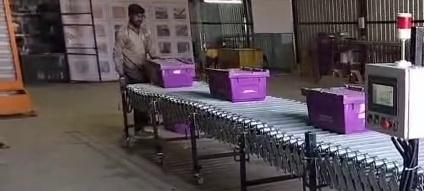box: (304, 87, 366, 133), (207, 68, 269, 101), (146, 59, 194, 87)
